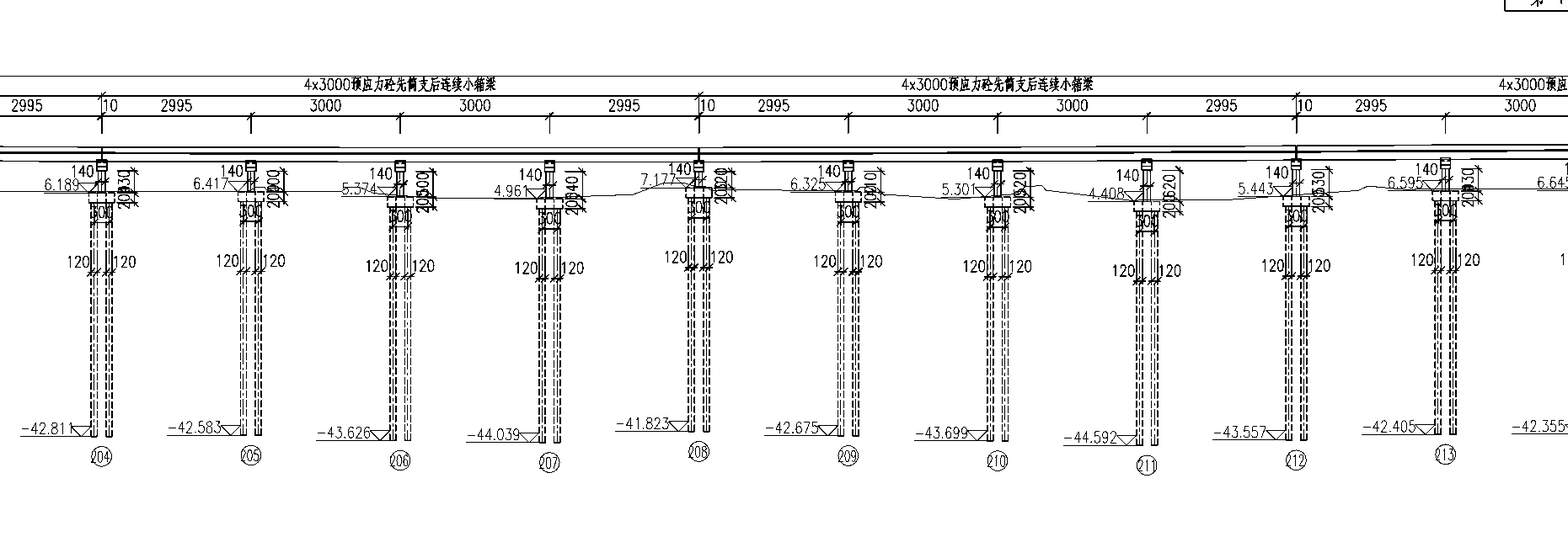C: (1061, 150, 1175, 486), (1211, 150, 1326, 480), (1357, 149, 1471, 476), (314, 151, 425, 481), (163, 152, 276, 476), (464, 153, 575, 481), (13, 174, 131, 476), (763, 163, 876, 476), (912, 151, 1019, 480), (609, 172, 726, 470), (1509, 151, 1567, 484)
